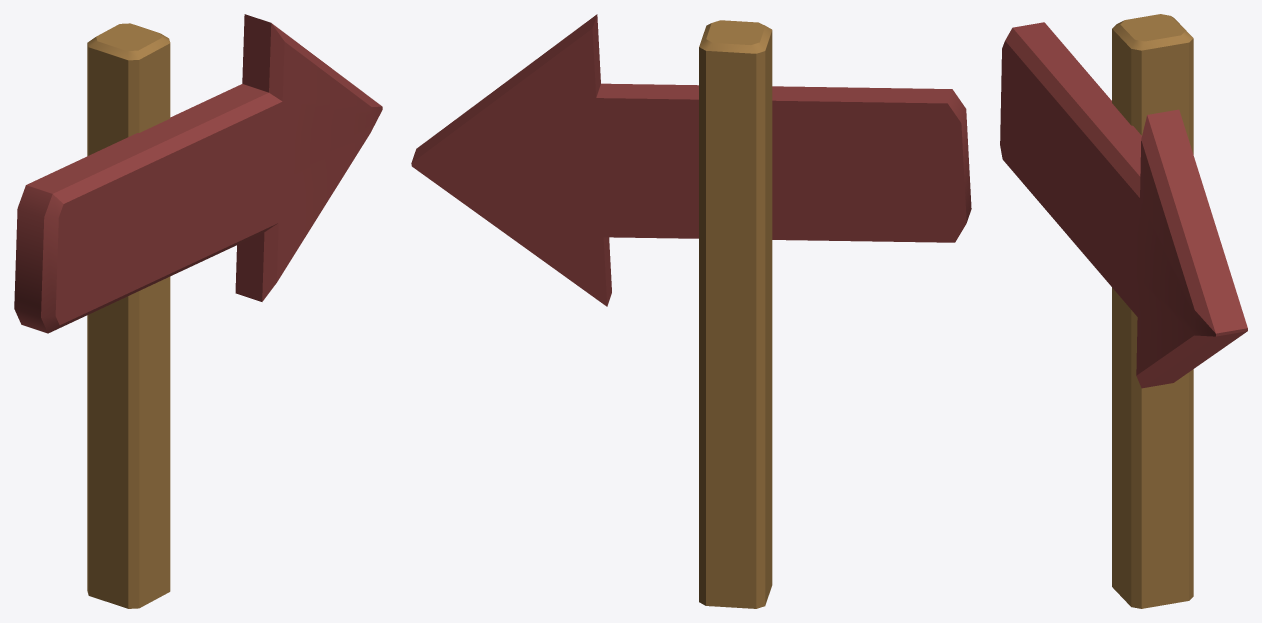
Rendered from Arrow_Side.fbx.
The picture shows the model from 3 angles, left to right: view 1: azimuth 30°, elevation 25°; view 2: azimuth 150°, elevation 25°; view 3: azimuth 270°, elevation 25°; orthographic projection.
Parts seen in each view (by area): view 1: Arrow_Side; view 2: Arrow_Side; view 3: Arrow_Side.
Part boxes in pixels (box(x1,y1,x2,y2)): Arrow_Side: box(14, 14, 382, 608); Arrow_Side: box(411, 14, 971, 608); Arrow_Side: box(1000, 14, 1247, 608).
Bounding box in the file's own units: 177 × 205 × 81.73.
